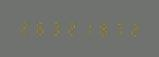eight: (92, 20, 106, 37)
one: (77, 19, 91, 37)
seven: (107, 20, 121, 37)
six: (32, 19, 46, 36)
three: (47, 19, 61, 36)
two: (17, 18, 31, 36), (62, 19, 76, 36), (122, 20, 136, 37)
